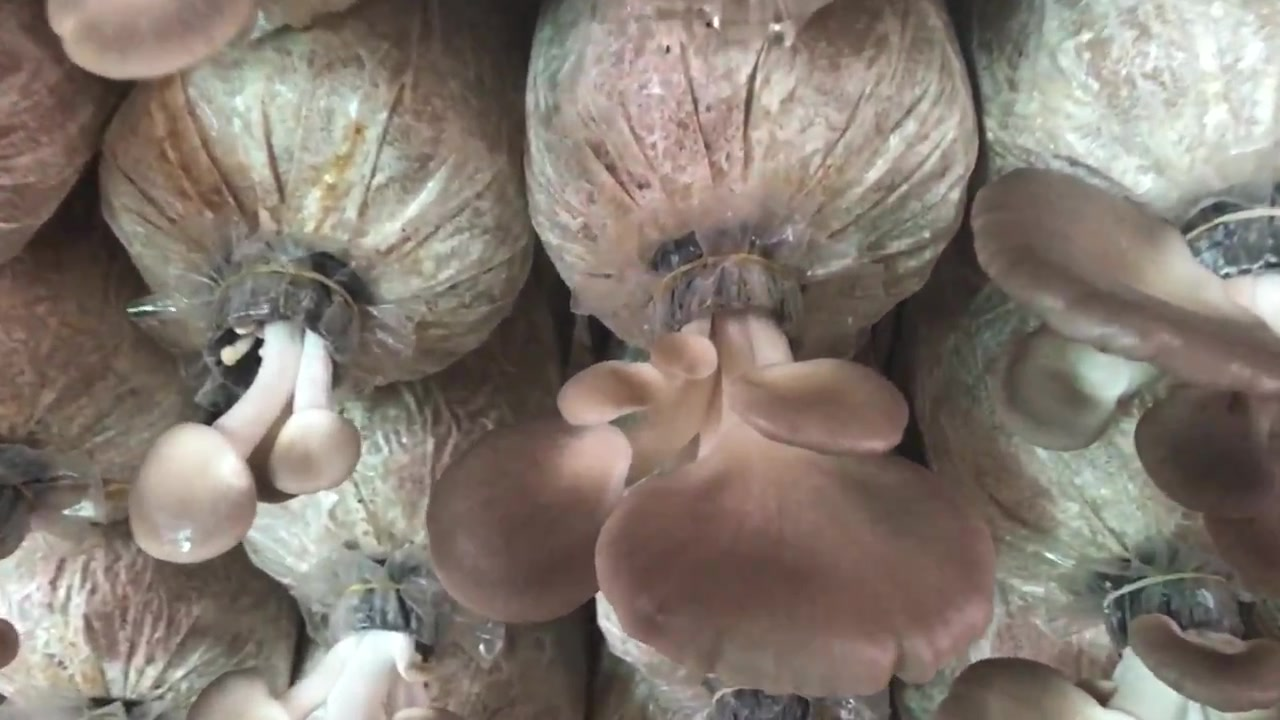nam: (431, 249, 993, 693), (975, 166, 1280, 586), (128, 262, 363, 560), (938, 555, 1280, 717), (192, 573, 464, 720)
